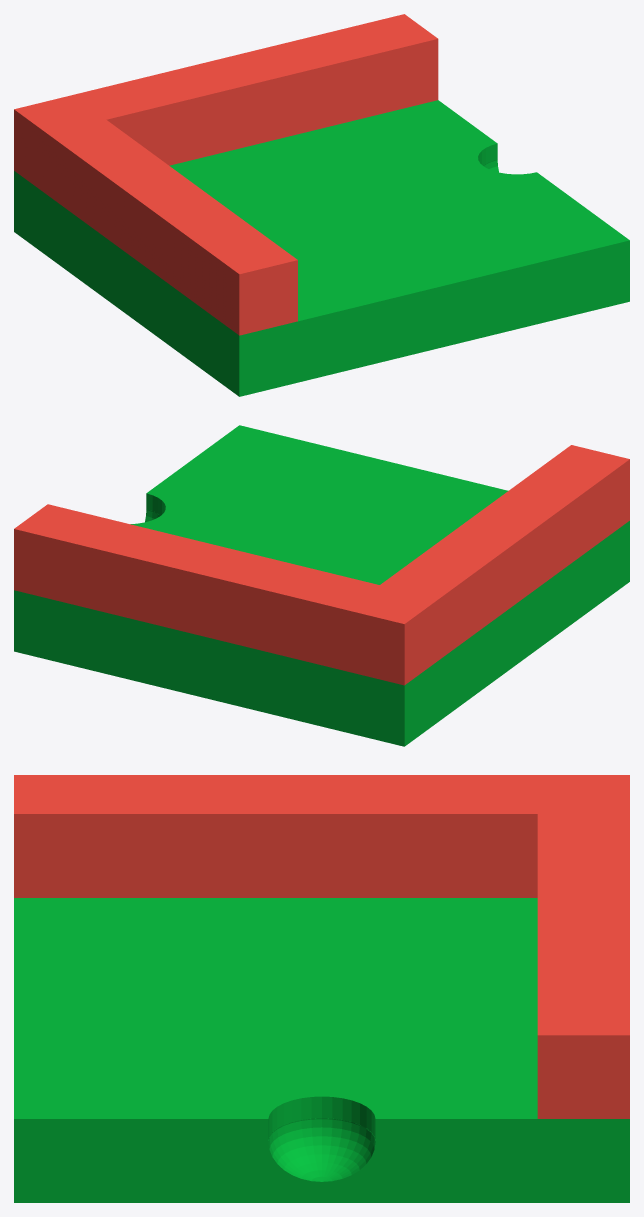
Rendered from hole_corner_mid_left.fbx.
3 views of the same model, one above another, from view 1: azimuth 30°, elevation 25°; view 2: azimuth 150°, elevation 25°; view 3: azimuth 270°, elevation 25° (orthographic). The views are drawn at different scales.
Parts seen in each view (by area): view 1: green_straight_single_edge, Cube, Cube.001; view 2: green_straight_single_edge, Cube, Cube.001; view 3: green_straight_single_edge, Cube.001, Cube.
Part boxes in pixels (<box>): green_straight_single_edge: <box>14,100,629,396</box>; Cube: <box>14,14,438,189</box>; Cube.001: <box>14,117,297,335</box>; green_straight_single_edge: <box>14,425,629,746</box>; Cube: <box>14,504,438,685</box>; Cube.001: <box>346,445,629,681</box>; green_straight_single_edge: <box>14,898,629,1202</box>; Cube.001: <box>14,775,537,897</box>; Cube: <box>537,775,629,1118</box>.
Size of the model in its own units: 200 by 60 by 200.
